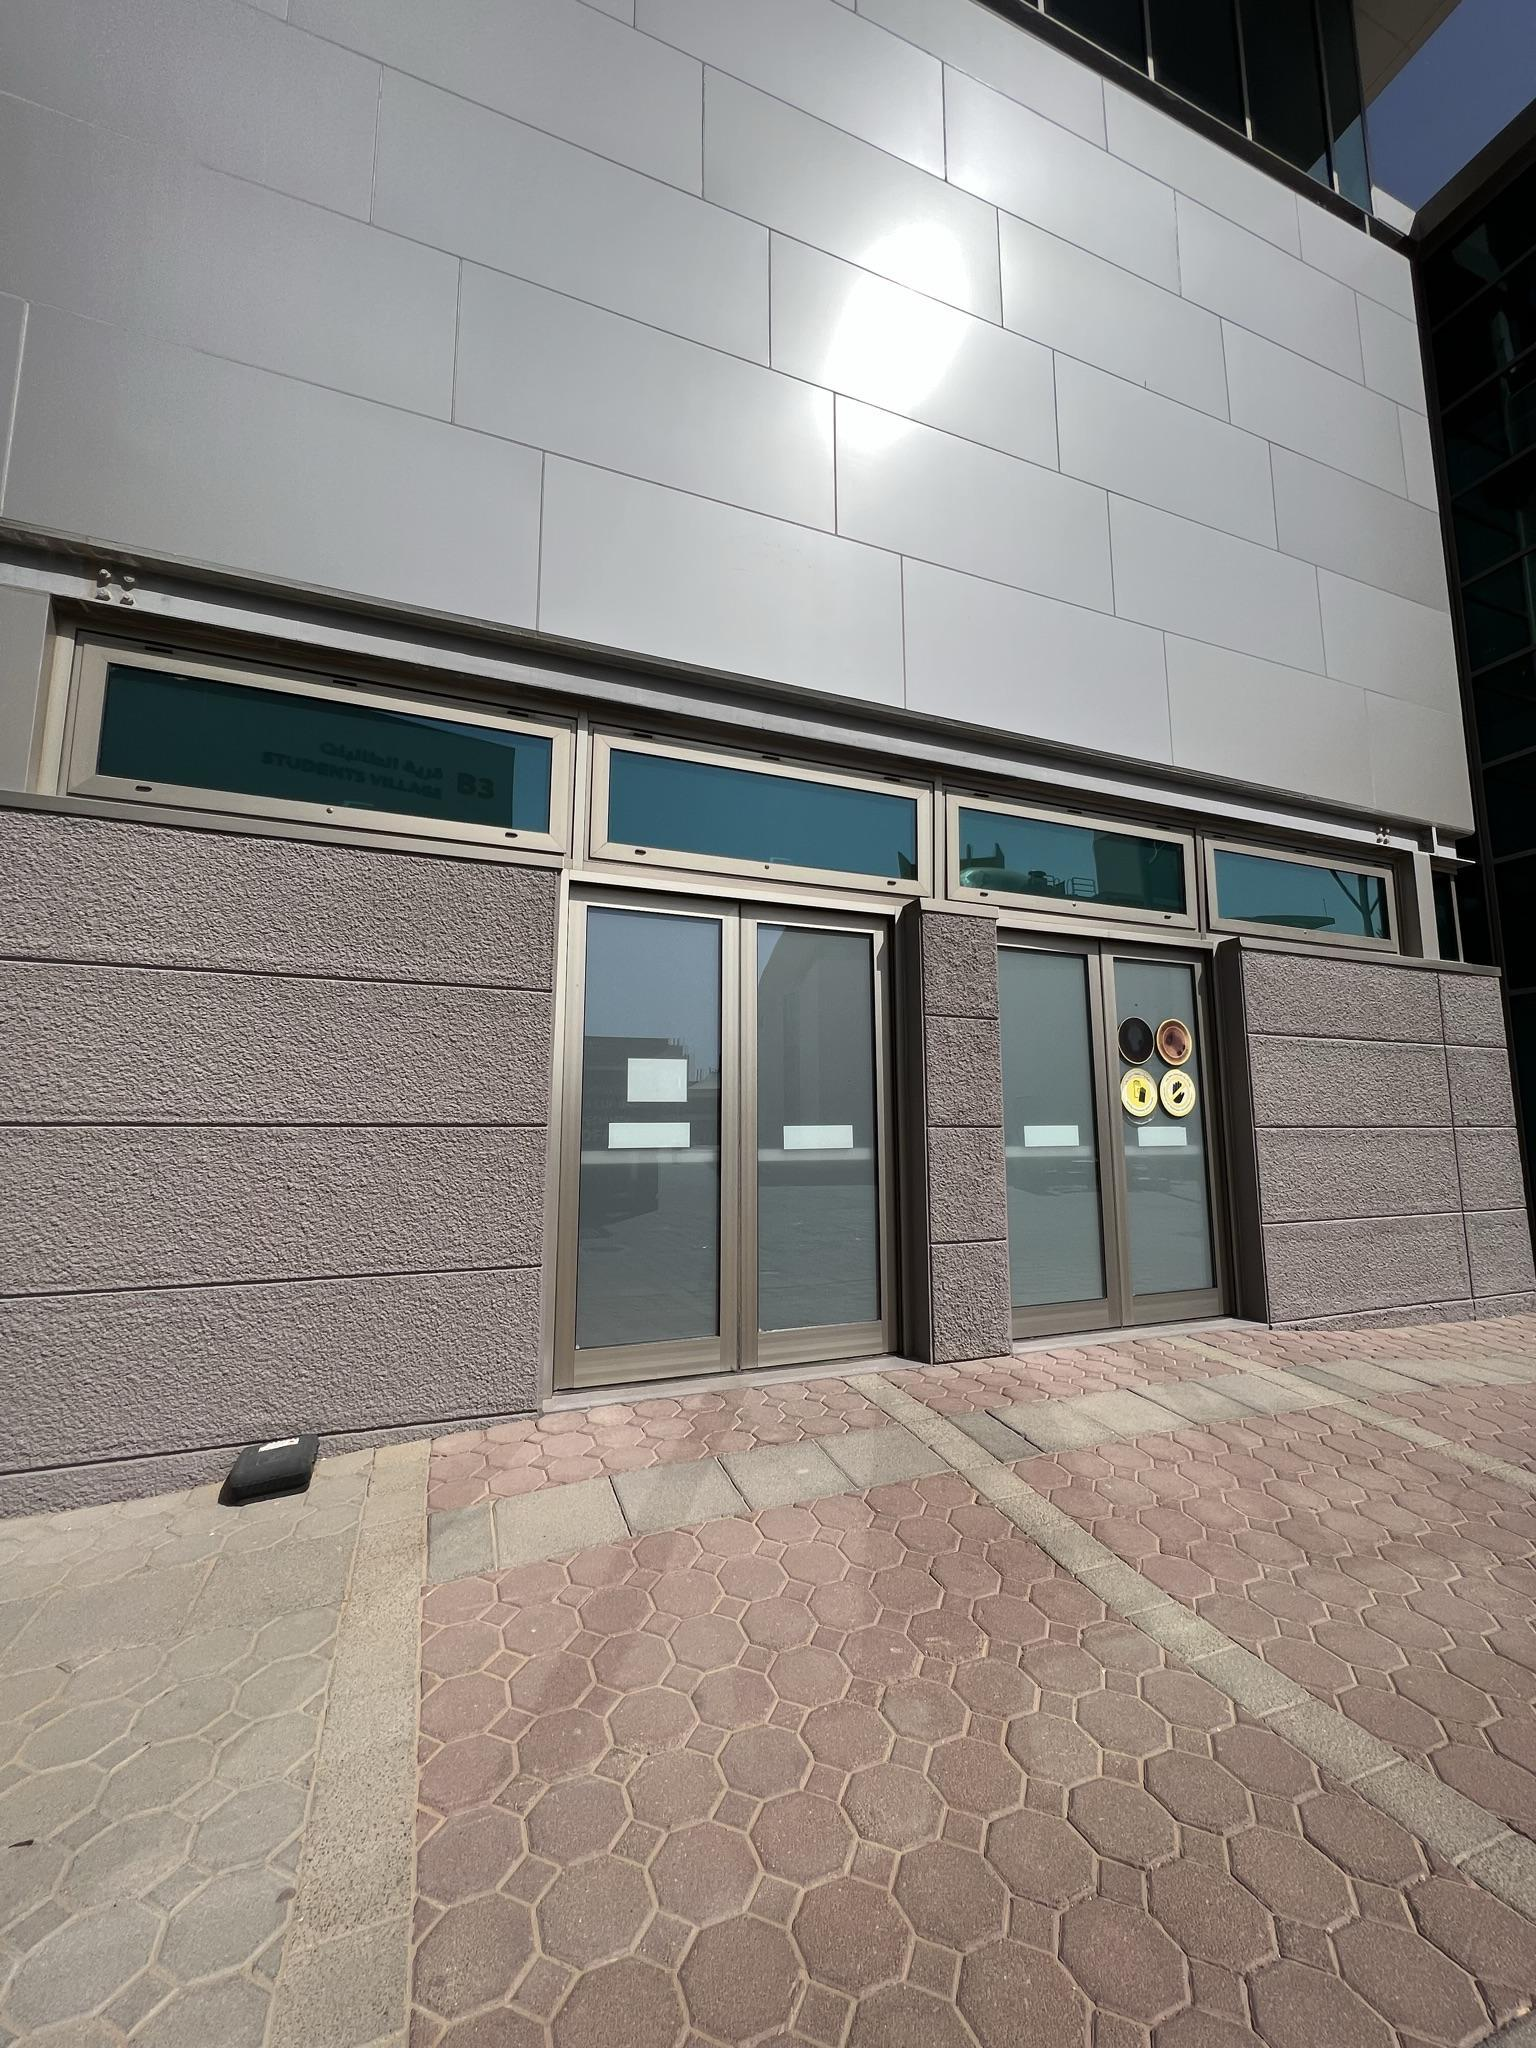door: (555, 906, 736, 1392), (731, 906, 891, 1369), (991, 935, 1102, 1337), (1108, 948, 1220, 1317)
